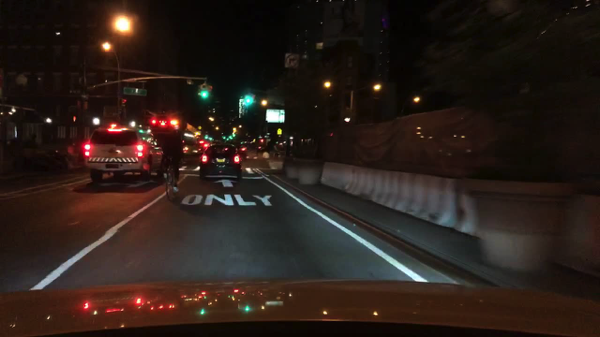bike: (159, 150, 175, 197)
car: (85, 126, 152, 182), (199, 143, 242, 180), (182, 139, 202, 155), (152, 145, 164, 169), (237, 145, 247, 157), (198, 140, 208, 149), (256, 145, 267, 151)
rider: (160, 128, 183, 193)
traffic light: (196, 85, 202, 98), (201, 84, 206, 98), (207, 85, 212, 98), (70, 116, 79, 123), (120, 97, 126, 107), (245, 94, 250, 104), (228, 135, 232, 139), (204, 135, 207, 139), (232, 133, 235, 137), (223, 136, 226, 139), (208, 138, 212, 140), (226, 138, 230, 140)
traffic sign: (265, 109, 285, 123), (285, 52, 300, 67), (123, 87, 147, 96), (277, 129, 281, 134), (198, 126, 202, 130), (258, 136, 263, 139), (264, 135, 270, 137), (266, 133, 272, 134)
